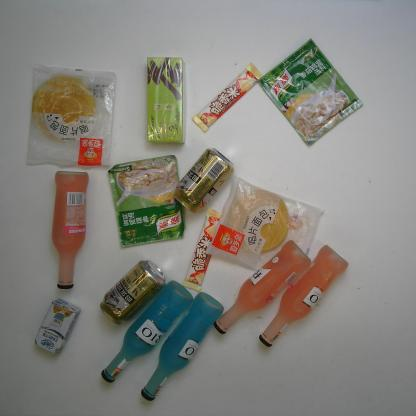Alcohol: (100, 278, 194, 384), (213, 238, 312, 336), (258, 244, 350, 349), (138, 292, 225, 402), (50, 170, 90, 290), (99, 259, 167, 325), (172, 145, 235, 214)
Chocolate: (192, 62, 264, 134), (182, 208, 226, 292)
Dessert: (209, 174, 325, 286), (25, 62, 118, 170)
Instant Drink: (145, 57, 188, 146)
Milk: (34, 298, 81, 355)
Seasoner: (256, 39, 364, 147), (107, 154, 187, 250)
